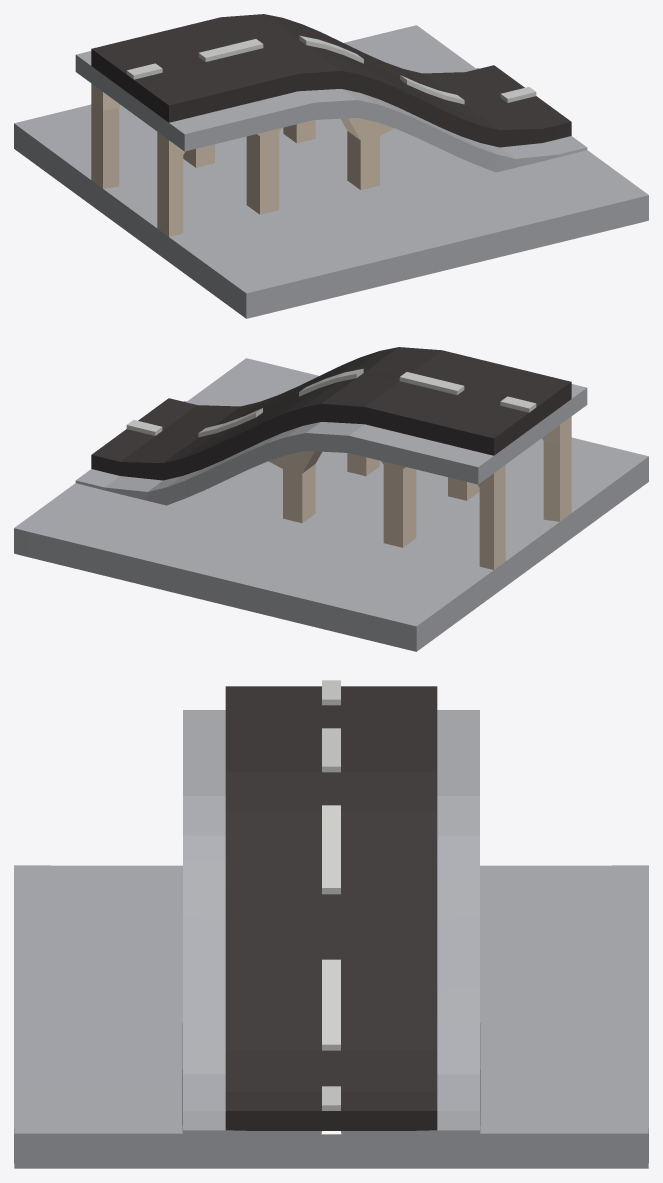
The model's file is Street_Bridge_Ramp.glb.
3 views of the same model, one above another, from view 1: azimuth 30°, elevation 25°; view 2: azimuth 150°, elevation 25°; view 3: azimuth 270°, elevation 25° (orthographic). The views are drawn at different scales.
Parts seen in each view (by area): view 1: Street_Bridge_Ramp.obj; view 2: Street_Bridge_Ramp.obj; view 3: Street_Bridge_Ramp.obj.
Boxes of the visible parts, x1=… form: Street_Bridge_Ramp.obj: x1=14, y1=14, x2=648, y2=318; Street_Bridge_Ramp.obj: x1=14, y1=347, x2=648, y2=651; Street_Bridge_Ramp.obj: x1=14, y1=680, x2=648, y2=1168.
Size of the model in its own units: 2 by 0.7638 by 2.
